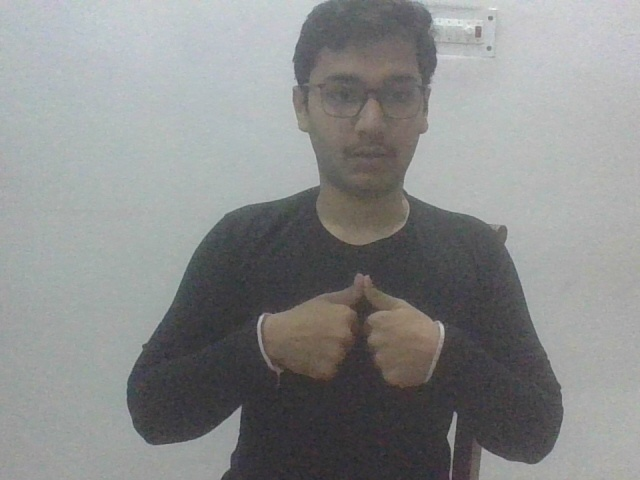A: (264, 268, 443, 394)
